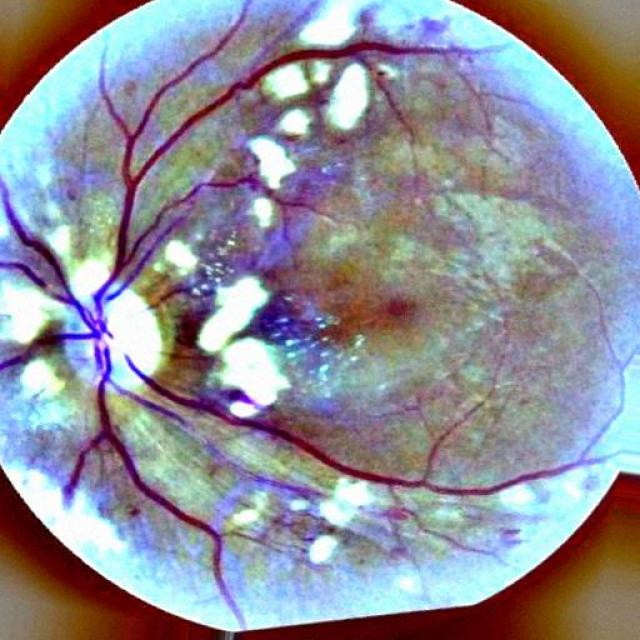Macula: (372, 294, 424, 339)
Nerves: (0, 0, 468, 619), (121, 351, 599, 495)
Optic Disk: (58, 273, 162, 389)
